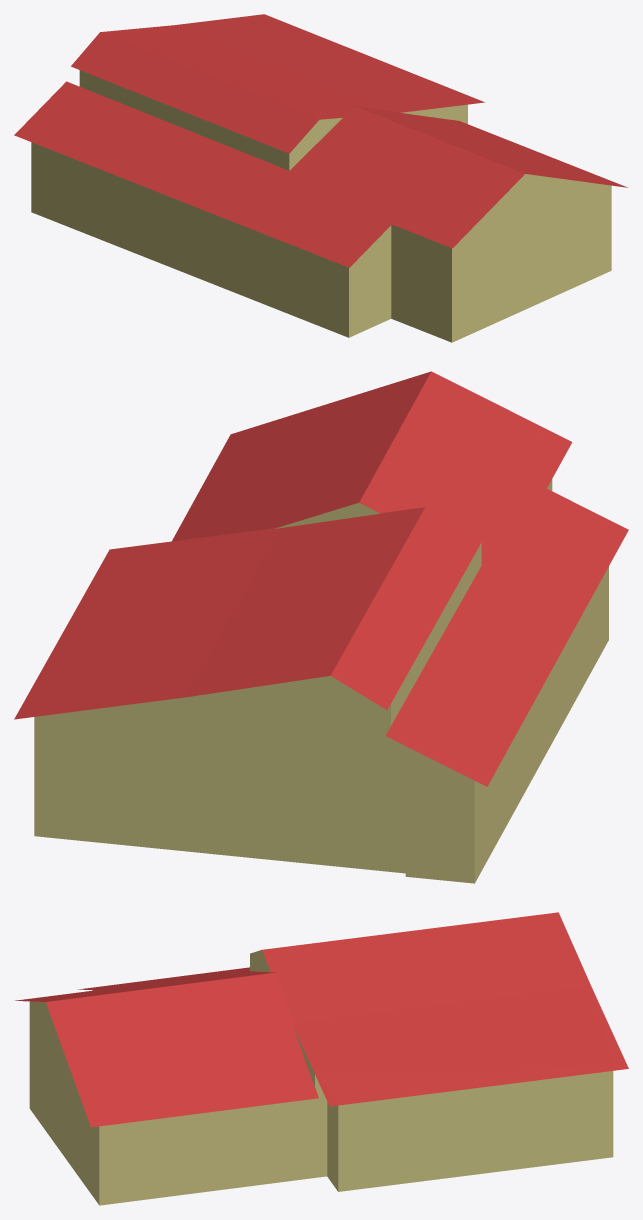
3 views of the same model, one above another, from view 1: azimuth 30°, elevation 25°; view 2: azimuth 150°, elevation 25°; view 3: azimuth 270°, elevation 25° (orthographic). The views are drawn at different scales.
Bounding box in the file's own units: 37.68 × 48.63 × 13.01.
